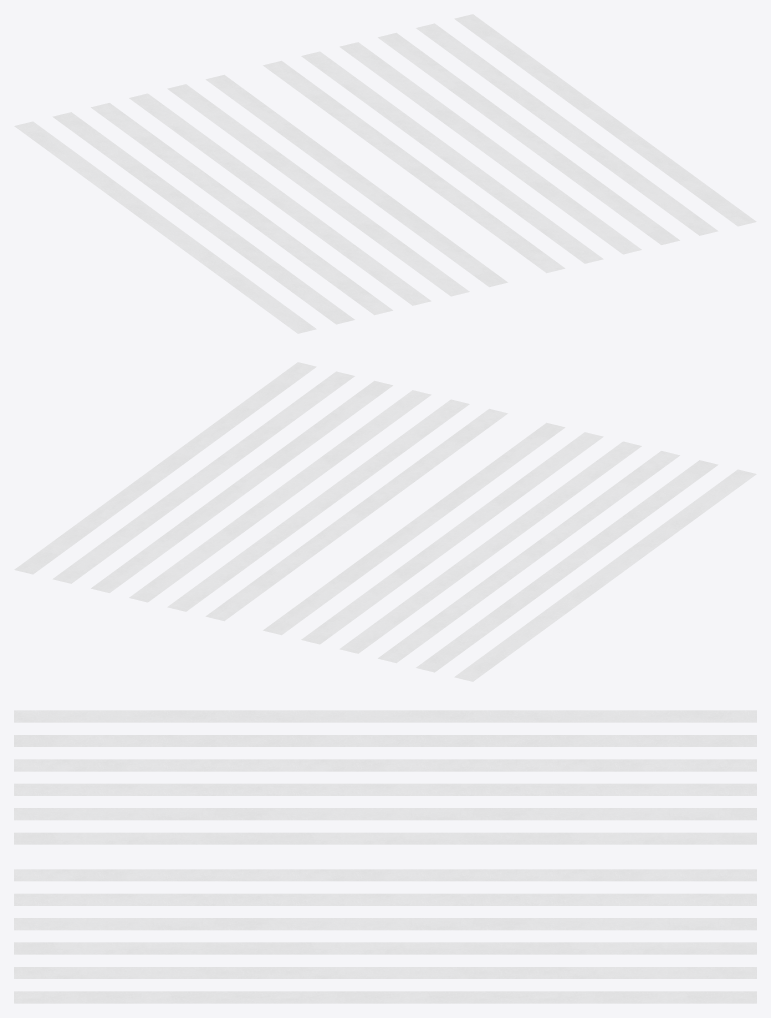
File: threshold_6.gltf
3 renders of one model, top to bottom at view 1: azimuth 30°, elevation 25°; view 2: azimuth 150°, elevation 25°; view 3: azimuth 270°, elevation 25°, orthographic. The views are drawn at different scales.
Parts seen in each view (by area): view 1: threshold_6; view 2: threshold_6; view 3: threshold_6.
Part boxes in pixels (left/top/right/bottom): threshold_6: left=14, top=14, right=756, bottom=333; threshold_6: left=14, top=362, right=756, bottom=681; threshold_6: left=14, top=710, right=756, bottom=1003.
Size of the model in its own units: 42 by 0 by 45.
